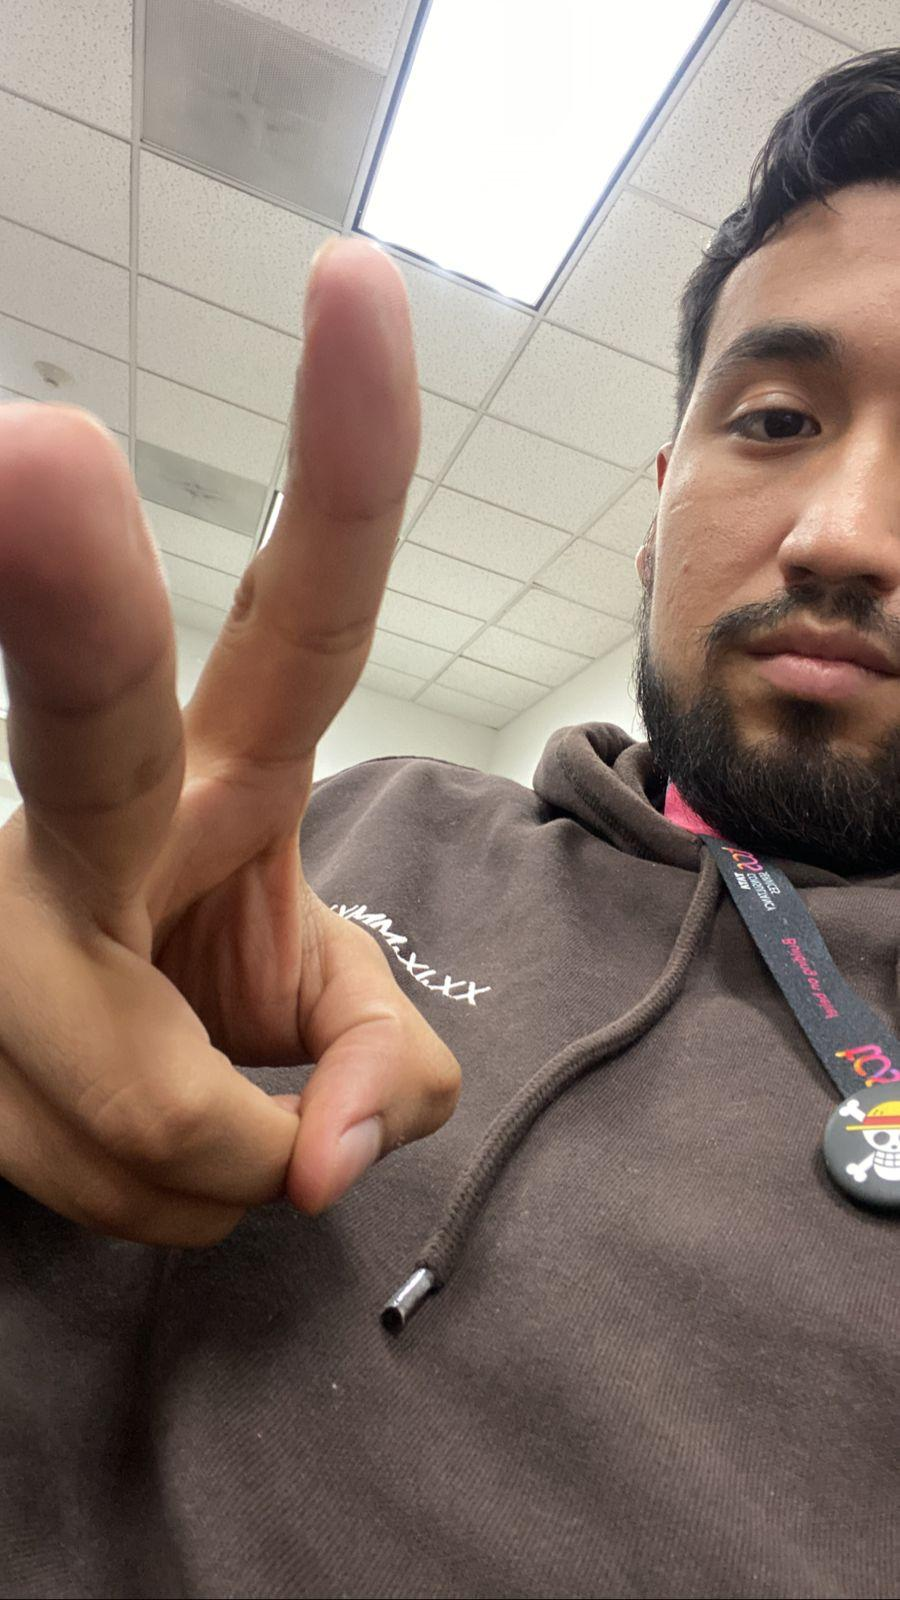Scissor: (0, 180, 513, 1269)
